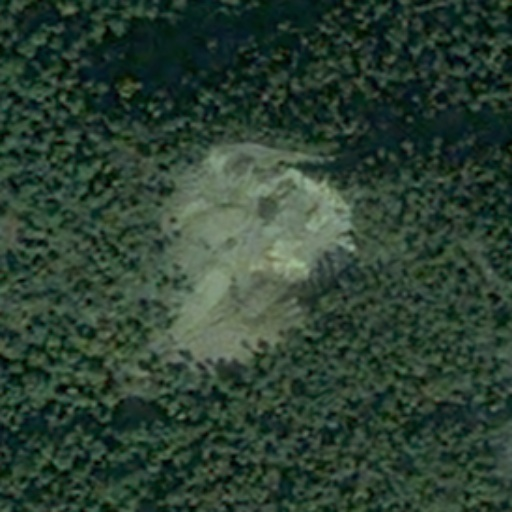landslide: (160, 145, 351, 354)
